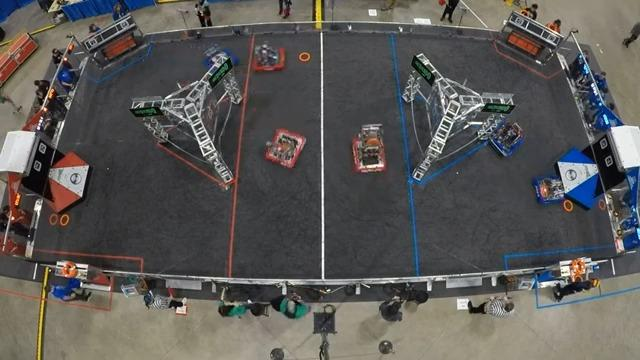robot: (347, 118, 390, 177), (262, 126, 308, 168), (243, 36, 291, 76), (530, 170, 568, 206), (488, 117, 523, 155), (202, 42, 241, 73)
